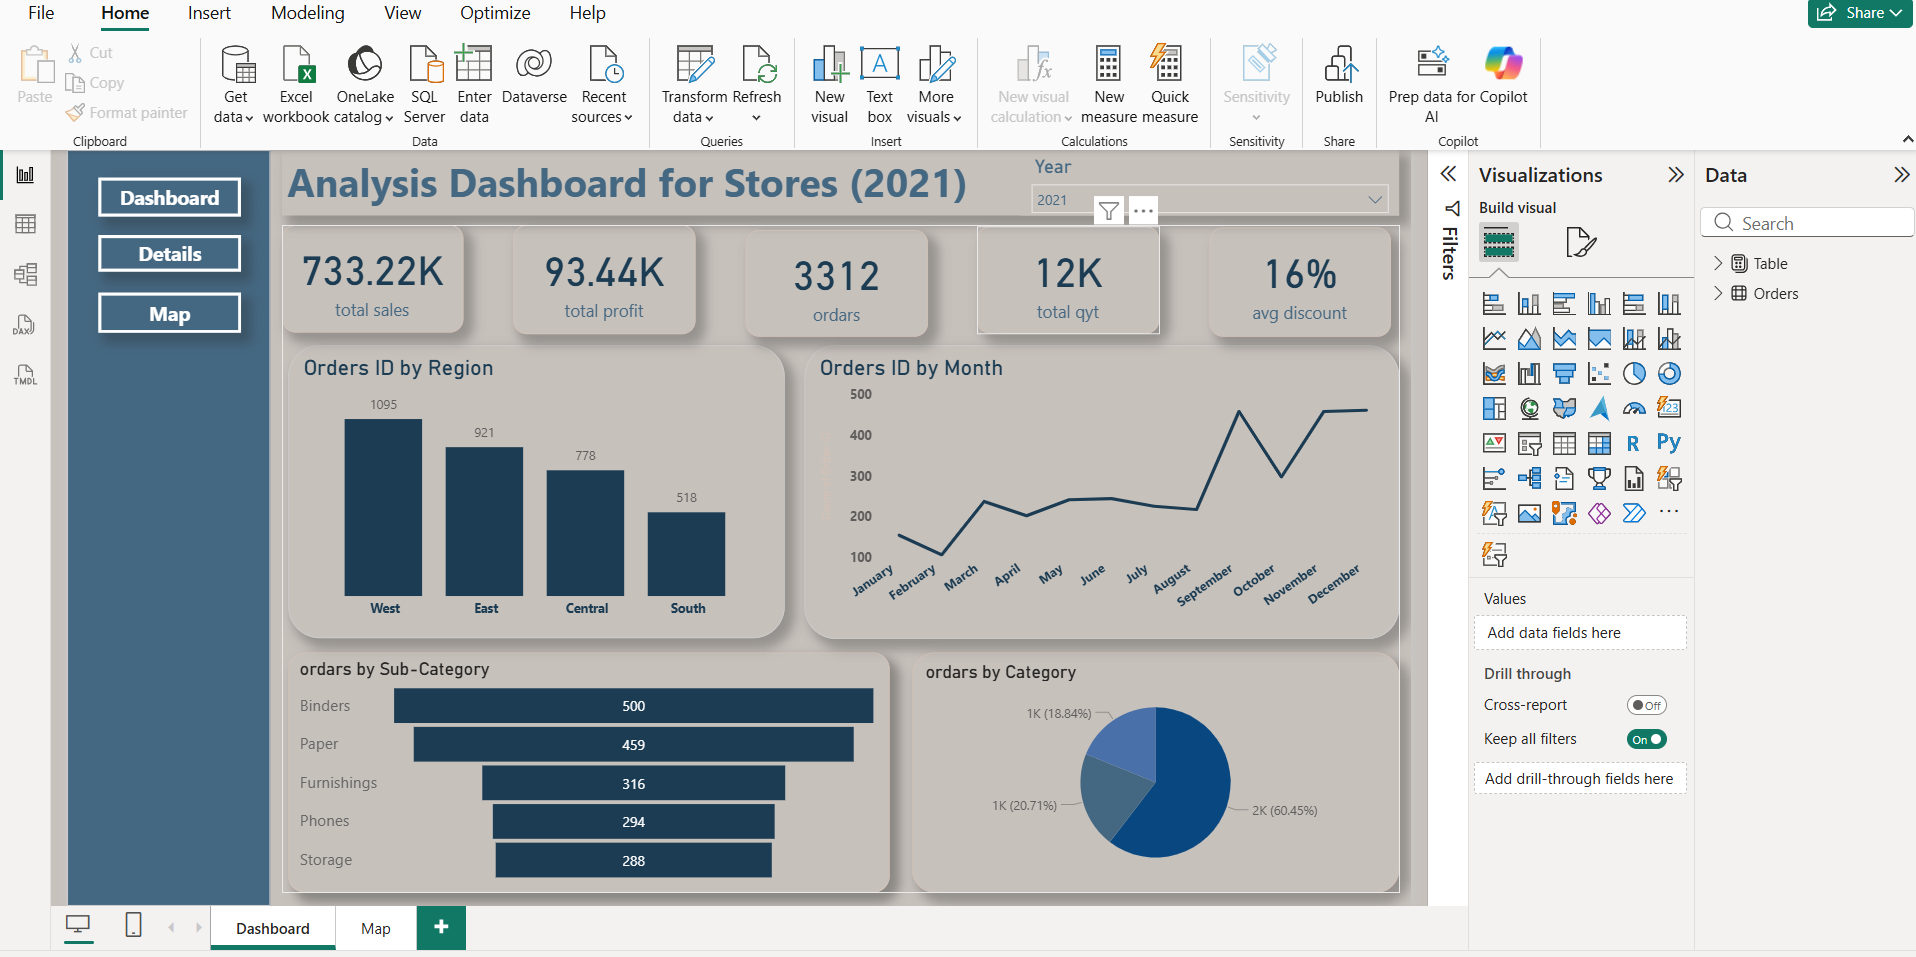

What the dashboard file says about the page in this screenshot:
{"tool":"powerbi","page":{"name":"Dashboard","canvas":[1280,720],"ordinal":0},"visuals":[{"type":"shape","box":[0,0,193.8,720],"z":0},{"type":"columnChart","title":" Orders ID by Region","fields":{"Y":["CountNonNull(Orders.Order ID)"],"Category":["Orders.Region"]},"box":[210.6,185.2,472.7,278.9],"z":0,"group":"g1"},{"type":"actionButton","box":[30.1,26.5,135.9,37.3],"z":1000},{"type":"lineChart","title":"Orders ID by Month","fields":{"Category":["Orders.Order Date.Variation.Date Hierarchy.Month"],"Y":["CountNonNull(Orders.Order ID)"]},"box":[702.8,185.2,566.1,280.3],"z":1000,"group":"g1"},{"type":"card","fields":{"Values":["Table.Measure"]},"box":[205,71.2,172.5,102.5],"z":2000,"group":"g1"},{"type":"actionButton","box":[30,136.2,136.2,38.8],"z":2000},{"type":"card","fields":{"Values":["Table.avg discount"]},"box":[1088.8,73.7,172.5,103.8],"z":3000,"group":"g1"},{"type":"actionButton","box":[30,81.2,136.2,35],"z":3000},{"type":"textbox","box":[205,0,1063.8,62.5],"z":4000},{"type":"card","fields":{"Values":["Table.total profit"]},"box":[425,71.2,173.8,103.8],"z":4000,"group":"g1"},{"type":"slicer","fields":{"Values":["Orders.Order Date.Variation.Date Hierarchy.Year"]},"box":[908.8,0,360,62.5],"z":5000},{"type":"card","fields":{"Values":["Table.ordars"]},"box":[646.2,76.2,173.8,101.2],"z":5000,"group":"g1"},{"type":"group","id":"g1","title":"Group 1","box":[205,71.2,1063.9,635.5],"z":6000},{"type":"card","fields":{"Values":["Table.total qyt"]},"box":[867.5,72.4,173.8,102.5],"z":6000,"group":"g1"},{"type":"pieChart","fields":{"Category":["Orders.Category"],"Y":["Table.ordars"]},"box":[804.6,478,464.3,228.7],"z":7000,"group":"g1"},{"type":"funnel","fields":{"Y":["Table.ordars"],"Category":["Orders.Sub-Category"]},"box":[210.6,478,573.1,228.7],"z":8000,"group":"g1"}]}

Visuals, with their boxes on the page's 1280x720 design canvas (x1, y1, x2, y2). These are canvas units, not pixel positions in the 1916x957 screenshot, which may show the page scaled, cropped or inside an application window:
shape: (0,0,194,720)
" Orders ID by Region" columnChart: (211,185,683,464)
actionButton: (30,26,166,64)
"Orders ID by Month" lineChart: (703,185,1269,466)
card - Table.Measure: (205,71,378,174)
actionButton: (30,136,166,175)
card - Table.avg discount: (1089,74,1261,178)
actionButton: (30,81,166,116)
textbox: (205,0,1269,62)
card - Table.total profit: (425,71,599,175)
slicer - Orders.Order Date.Variation.Date Hierarchy.Year: (909,0,1269,62)
card - Table.ordars: (646,76,820,177)
"Group 1" group: (205,71,1269,707)
card - Table.total qyt: (868,72,1041,175)
pieChart - Orders.Category x Table.ordars: (805,478,1269,707)
funnel - Table.ordars x Orders.Sub-Category: (211,478,784,707)
